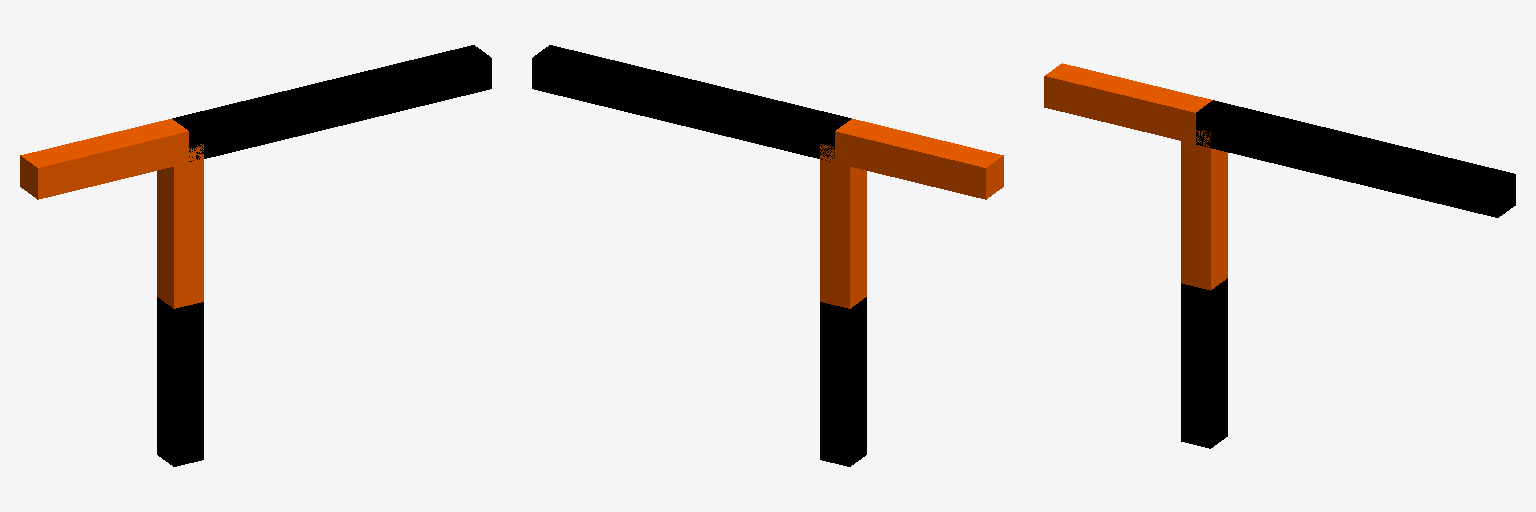
The robot description file, URDF, robot "testbot":
<?xml version="1.0" ?>
<robot name="testbot">

  <material name="black">
    <color rgba="0.0 0.0 0.0 1.0"/>
  </material>
  <material name="orange">
    <color rgba="1.0 0.4 0.0 1.0"/>
  </material>

  <link name="base"/>

  <joint name="fixed" type="fixed">
    <parent link="base"/>
    <child link="link1"/>
  </joint>

  <link name="link1">
    <inertial>
      <origin xyz="0.0 0.0 0.25" rpy="0.0 0.0 0.0"/>
      <mass value="1.0"/>
      <inertia ixx="1.0" ixy="0.0" ixz="0.0" iyy="1.0" iyz="0.0" izz="1.0"/>
    </inertial>
    <visual>
      <origin xyz="0.0 0.0 0.25" rpy="0.0 0.0 0.0"/>
      <geometry>
        <box size="0.1 0.1 0.5"/>
      </geometry>
      <material name="black"/>
    </visual>
    <collision>
      <origin xyz="0.0 0.0 0.25" rpy="0.0 0.0 0.0"/>
      <geometry>
        <box size="0.1 0.1 0.5"/>
      </geometry>
    </collision>
  </link>

  <joint name="joint1" type="revolute">
    <origin xyz="0.0 0.0 0.5" rpy="0.0 0.0 0.0"/>
    <parent link="link1"/>
    <child link="link2"/>
    <axis xyz="0.0 0.0 1.0"/>
    <limit lower="-2.617" upper="2.617" effort="30.0" velocity="1.571"/>
  </joint>

  <link name="link2">
    <inertial>
      <origin xyz="0.0 0.0 0.25" rpy="0.0 0.0 0.0"/>
      <mass value="1.0"/>
      <inertia ixx="1.0" ixy="0.0" ixz="0.0" iyy="1.0" iyz="0.0" izz="1.0"/>
    </inertial>
    <visual>
      <origin xyz="0.0 0.0 0.25" rpy="0.0 0.0 0.0"/>
      <geometry>
        <box size="0.1 0.1 0.5"/>
      </geometry>
      <material name="orange"/>
    </visual>
    <collision>
      <origin xyz="0.0 0.0 0.25" rpy="0.0 0.0 0.0"/>
      <geometry>
        <box size="0.1 0.1 0.5"/>
      </geometry>
    </collision>
  </link>

  <joint name="joint2" type="revolute">
    <origin xyz="0.0 0.0 0.5" rpy="0.0 1.5708 0.0"/>
    <parent link="link2"/>
    <child link="link3"/>
    <axis xyz="0.0 1.0 0.0"/>
    <limit lower="-2.617" upper="2.617" effort="30.0" velocity="1.571"/>
  </joint>

  <link name="link3">
    <inertial>
      <origin xyz="0.0 0.0 0.5" rpy="0.0 0.0 0.0"/>
      <mass value="1.0"/>
      <inertia ixx="1.0" ixy="0.0" ixz="0.0" iyy="1.0" iyz="0.0" izz="1.0"/>
    </inertial>
    <visual>
      <origin xyz="0.0 0.0 0.5" rpy="0.0 0.0 0.0"/>
      <geometry>
        <box size="0.1 0.1 1.0"/>
      </geometry>
      <material name="black"/>
    </visual>
    <collision>
      <origin xyz="0.0 0.0 0.5" rpy="0.0 0.0 0.0"/>
      <geometry>
        <box size="0.1 0.1 1.0"/>
      </geometry>
    </collision>
  </link>

  <joint name="joint3" type="revolute">
    <origin xyz="0.0 0.0 0.5" rpy="0.0 -1.5708 0.0"/>
    <parent link="link2"/>
    <child link="link4"/>
    <axis xyz="0.0 1.0 0.0"/>
    <limit lower="-2.617" upper="2.617" effort="30.0" velocity="1.571"/>
  </joint>

  <link name="link4">
    <inertial>
      <origin xyz="0.0 0.0 0.25" rpy="0.0 0.0 0.0"/>
      <mass value="1.0"/>
      <inertia ixx="1.0" ixy="0.0" ixz="0.0" iyy="1.0" iyz="0.0" izz="1.0"/>
    </inertial>
    <visual>
      <origin xyz="0.0 0.0 0.25" rpy="0.0 0.0 0.0"/>
      <geometry>
        <box size="0.1 0.1 0.5"/>
      </geometry>
      <material name="orange"/>
    </visual>
    <collision>
      <origin xyz="0.0 0.0 0.25" rpy="0.0 0.0 0.0"/>
      <geometry>
        <box size="0.1 0.1 0.5"/>
      </geometry>
    </collision>
  </link>

</robot>

--- What the picture shows (computed from the rendered views, not written in the file) ---
The picture shows the robot from 3 angles, left to right: view 1: azimuth 30°, elevation 25°; view 2: azimuth 150°, elevation 25°; view 3: azimuth 330°, elevation 25°; orthographic projection.
Model testbot with 5 links and 4 joints (3 revolute, 1 fixed), rooted at base, posed every joint at zero.
Visible links, largest first — view 1: link3, link4, link1, link2; view 2: link3, link4, link1, link2; view 3: link3, link1, link4, link2.
Link boxes in pixels (box(x1,y1,x2,y2)): link3: box(172, 45, 491, 161); link4: box(20, 119, 188, 199); link1: box(157, 297, 203, 466); link2: box(157, 144, 203, 308); link3: box(532, 45, 851, 161); link4: box(835, 119, 1003, 199); link1: box(820, 297, 866, 466); link2: box(820, 144, 866, 308); link3: box(1196, 100, 1515, 217); link1: box(1181, 278, 1227, 448); link4: box(1044, 63, 1212, 143); link2: box(1181, 126, 1227, 290).
Size in the robot's own frame: 1.5 by 0.1 by 1.05 metres.
Geometry: primitives only (box / cylinder / sphere), no mesh files.